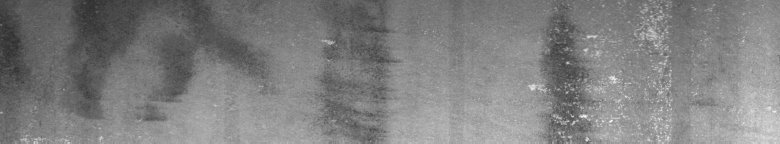hc: (529, 5, 672, 136)
